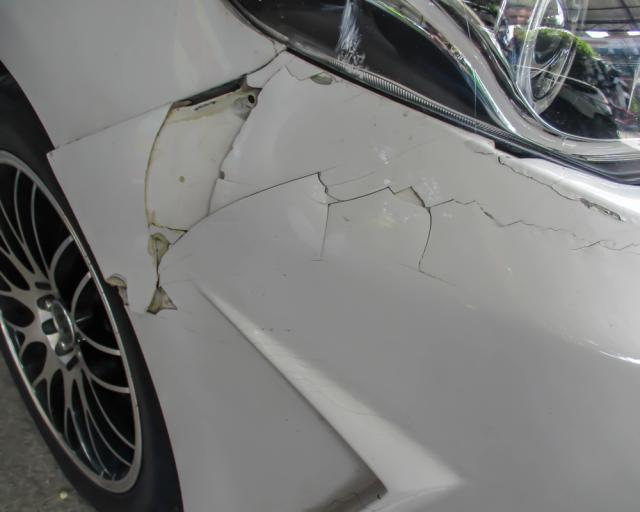crack: (107, 66, 640, 316), (476, 144, 624, 221)
